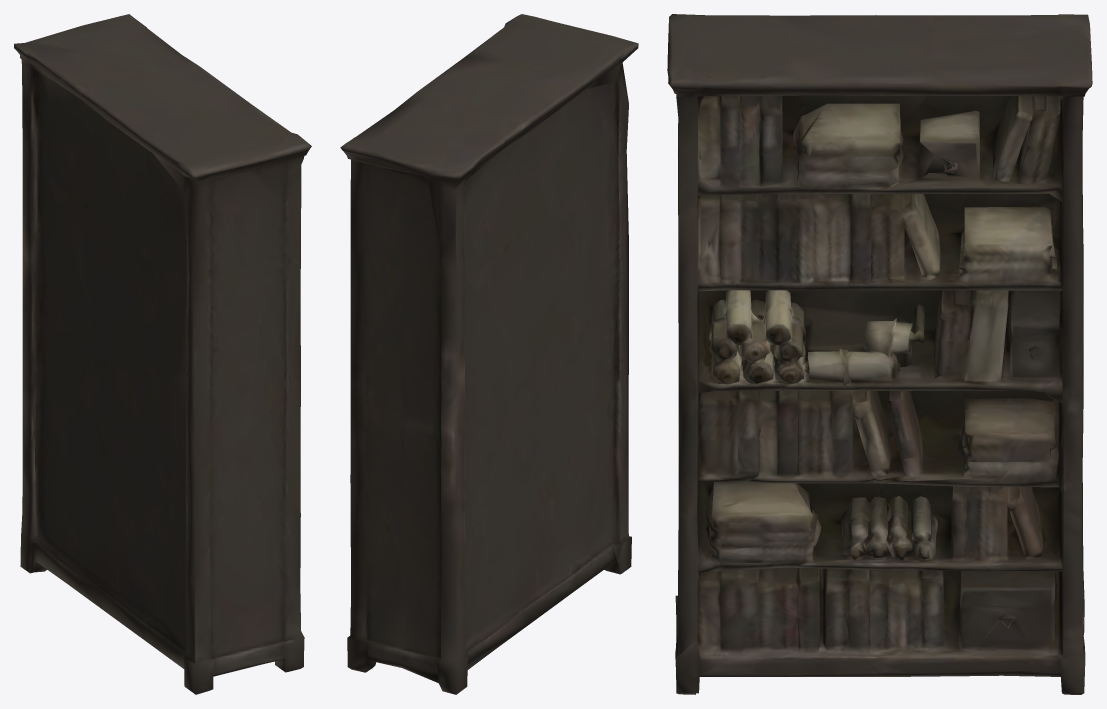
File: bookshelf.glb
3 views of the same model, side by side, from view 1: azimuth 30°, elevation 25°; view 2: azimuth 150°, elevation 25°; view 3: azimuth 270°, elevation 25° (orthographic). The views are drawn at different scales.
Visible parts, largest first — view 1: tripo_node_3805db2a-2596-4cb6-b239-a733c7254b9c; view 2: tripo_node_3805db2a-2596-4cb6-b239-a733c7254b9c; view 3: tripo_node_3805db2a-2596-4cb6-b239-a733c7254b9c.
Boxes of the visible parts, x1,y1,x2,y2 form: tripo_node_3805db2a-2596-4cb6-b239-a733c7254b9c: (14,14,311,694); tripo_node_3805db2a-2596-4cb6-b239-a733c7254b9c: (340,14,638,694); tripo_node_3805db2a-2596-4cb6-b239-a733c7254b9c: (667,14,1092,694).
Bounding box in the file's own units: 0.2412 × 1 × 0.6226.
Materials: 1 (1 with a texture image).
